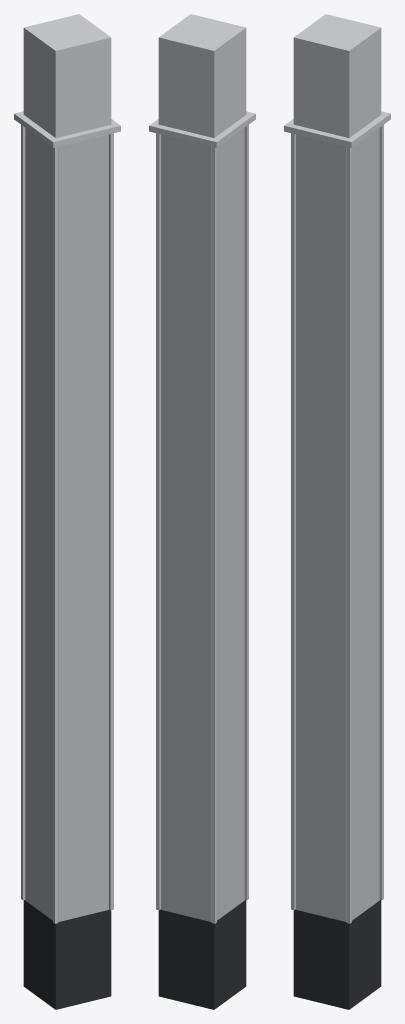
File: SC_Bld_Store_Corner_Post_Clad.gltf
3 views of the same model, side by side, from view 1: azimuth 30°, elevation 25°; view 2: azimuth 150°, elevation 25°; view 3: azimuth 330°, elevation 25° (orthographic).
Visible parts, largest first — view 1: SC_Bld_Store_Corner_Post_Clad; view 2: SC_Bld_Store_Corner_Post_Clad; view 3: SC_Bld_Store_Corner_Post_Clad.
Part boxes in pixels (<box>): SC_Bld_Store_Corner_Post_Clad: <box>14,14,120,1009</box>; SC_Bld_Store_Corner_Post_Clad: <box>149,14,255,1009</box>; SC_Bld_Store_Corner_Post_Clad: <box>284,14,390,1009</box>.
Size of the model in its own units: 0.244 by 3.3 by 0.244.
1 material, 1 textured.
